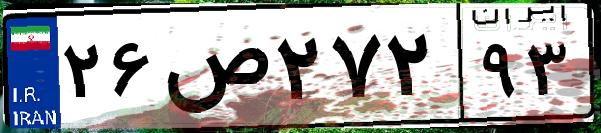2: (270, 28, 330, 110), (385, 28, 445, 110), (57, 26, 110, 100)
3: (525, 38, 570, 115)
6: (110, 28, 158, 98)
7: (330, 28, 385, 110)
9: (475, 38, 525, 113)
ص: (158, 20, 270, 120)
